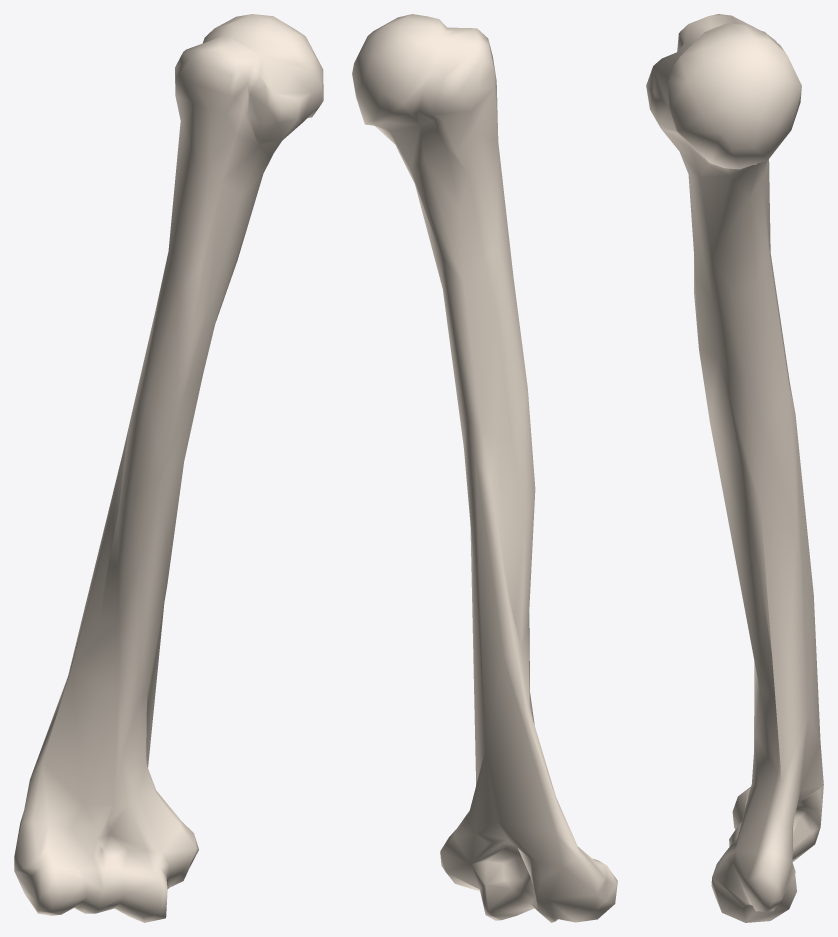
Rendered from right_humerus.glb.
The picture shows the model from 3 angles, left to right: view 1: azimuth 30°, elevation 25°; view 2: azimuth 150°, elevation 25°; view 3: azimuth 270°, elevation 25°; orthographic projection. The views are drawn at different scales.
Parts seen in each view (by area): view 1: Humerus.r; view 2: Humerus.r; view 3: Humerus.r.
Part boxes in pixels (x1,y1,x2,y2): Humerus.r: [14, 14, 323, 922]; Humerus.r: [352, 14, 617, 922]; Humerus.r: [646, 14, 823, 922].
Size of the model in its own units: 0.0974 by 0.3005 by 0.0516.
